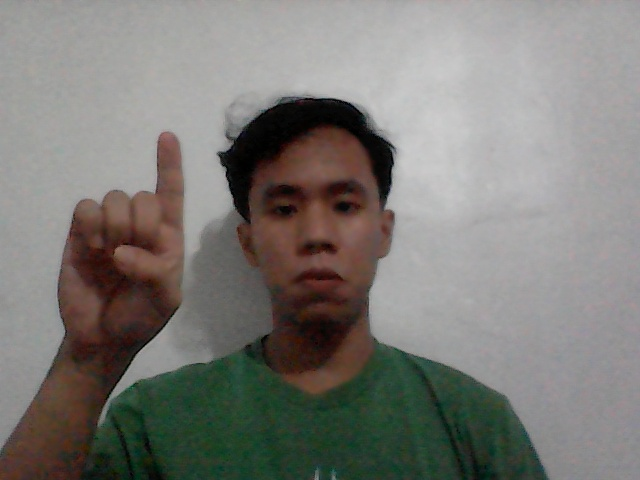D: (34, 120, 225, 370)
